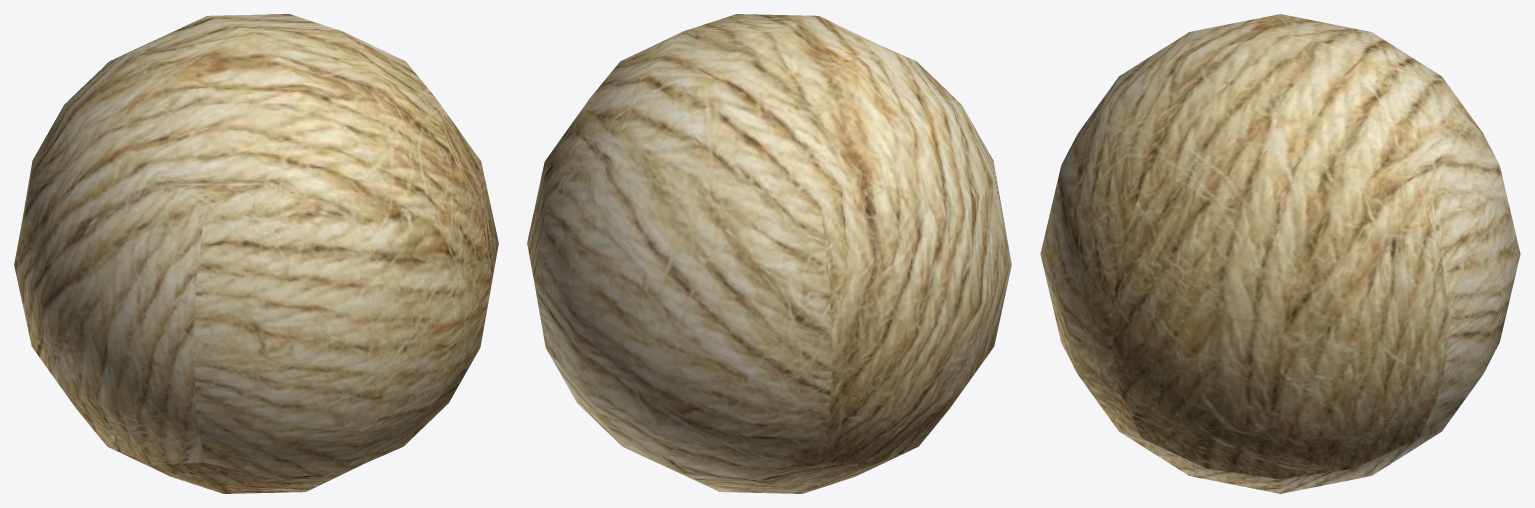
The model's file is wollknauel.fbx.
The picture shows the model from 3 angles, left to right: view 1: azimuth 30°, elevation 25°; view 2: azimuth 150°, elevation 25°; view 3: azimuth 270°, elevation 25°; orthographic projection.
Visible parts, largest first — view 1: Cube_004; view 2: Cube_004; view 3: Cube_004.
Part boxes in pixels (box(x1,y1,x2,y2)): Cube_004: box(14, 14, 498, 493); Cube_004: box(527, 14, 1011, 493); Cube_004: box(1040, 14, 1520, 493).
Size of the model in its own units: 0.1454 by 0.1454 by 0.1454.
